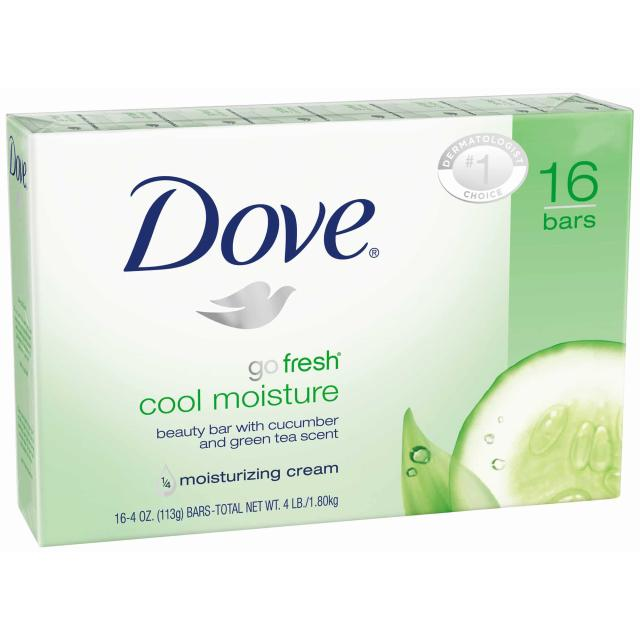soap: (0, 75, 637, 552)
